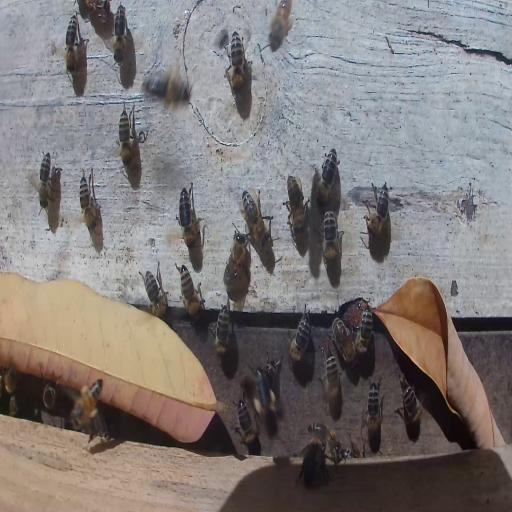nonpollenbee: (141, 70, 193, 106), (240, 188, 271, 246), (176, 183, 202, 250), (365, 180, 391, 236), (314, 148, 339, 206), (288, 304, 312, 364), (222, 233, 249, 285), (286, 174, 309, 234), (178, 265, 204, 318), (79, 166, 99, 234), (398, 378, 423, 431), (236, 398, 259, 452), (322, 350, 340, 418), (365, 375, 383, 442), (321, 209, 342, 266), (301, 442, 327, 488), (117, 102, 135, 168), (332, 320, 356, 366), (144, 269, 168, 314), (212, 305, 231, 361), (229, 30, 245, 95), (344, 302, 372, 339), (112, 3, 126, 65), (308, 424, 340, 449), (65, 14, 77, 75), (358, 302, 372, 354), (39, 150, 51, 209), (42, 383, 58, 412), (3, 367, 20, 394), (9, 393, 19, 416)
pollenbee: (69, 376, 105, 428), (254, 368, 279, 438), (268, 0, 296, 52)
